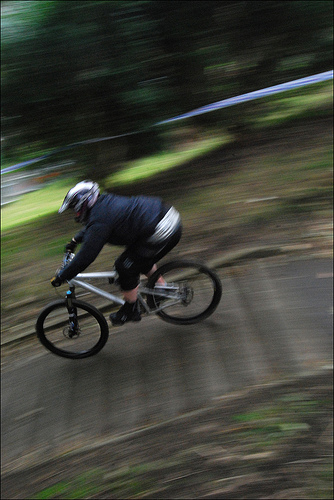helmet: (63, 185, 101, 211)
